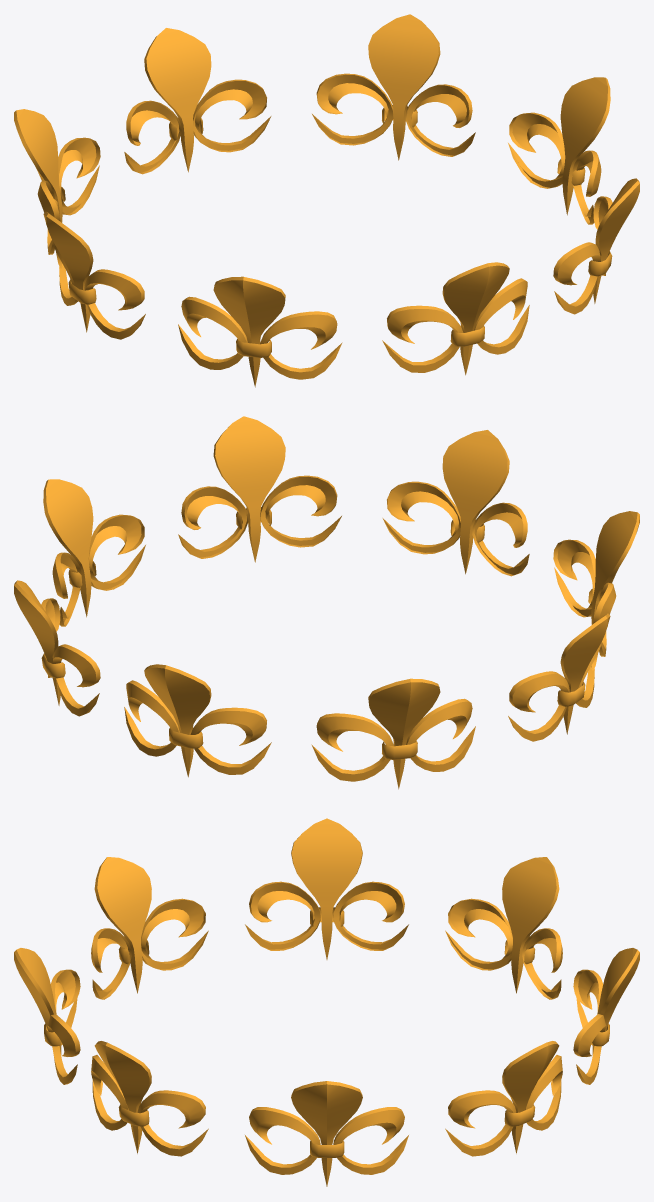
File: Cake_Med_itemsSide_RoyalSymbol-A.FBX
3 views of the same model, one above another, from view 1: azimuth 30°, elevation 25°; view 2: azimuth 150°, elevation 25°; view 3: azimuth 270°, elevation 25° (orthographic). The views are drawn at different scales.
Parts seen in each view (by area): view 1: Cake_Med_itemsSide_RoyalSymbol-A; view 2: Cake_Med_itemsSide_RoyalSymbol-A; view 3: Cake_Med_itemsSide_RoyalSymbol-A.
Part boxes in pixels (x1,y1,x2,y2): Cake_Med_itemsSide_RoyalSymbol-A: [14, 14, 639, 387]; Cake_Med_itemsSide_RoyalSymbol-A: [14, 416, 639, 789]; Cake_Med_itemsSide_RoyalSymbol-A: [14, 818, 639, 1186].
Bounding box in the file's own units: 8899 × 1956 × 8899.
